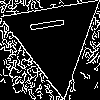I: (29, 13, 75, 34)
